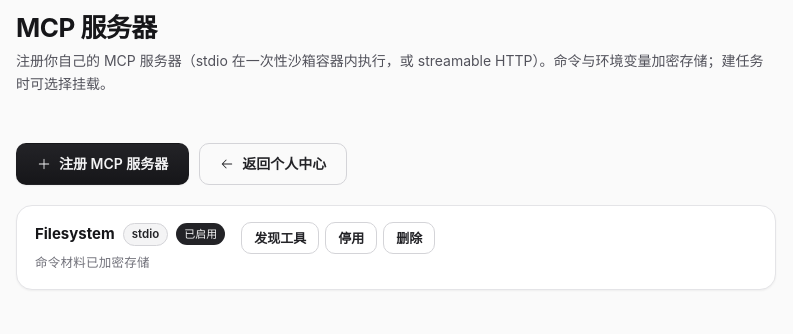
Test: MCP 管理页 › 列出服务器（零命令泄漏）并可发现工具
Expected: the text "Filesystem" is shown, [35, 222, 115, 247]
Expected: the text "stdio" is shown, [123, 223, 168, 246]
Click the button "发现工具" at (280,238), box [241, 222, 319, 254]
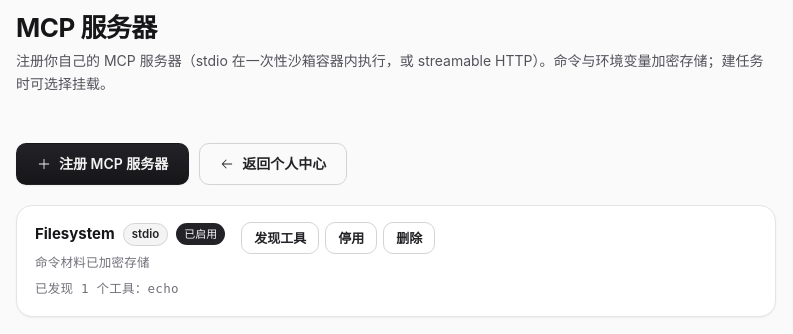
Result: the text "已发现 1 个工具：echo" is shown at [35, 281, 179, 296]
